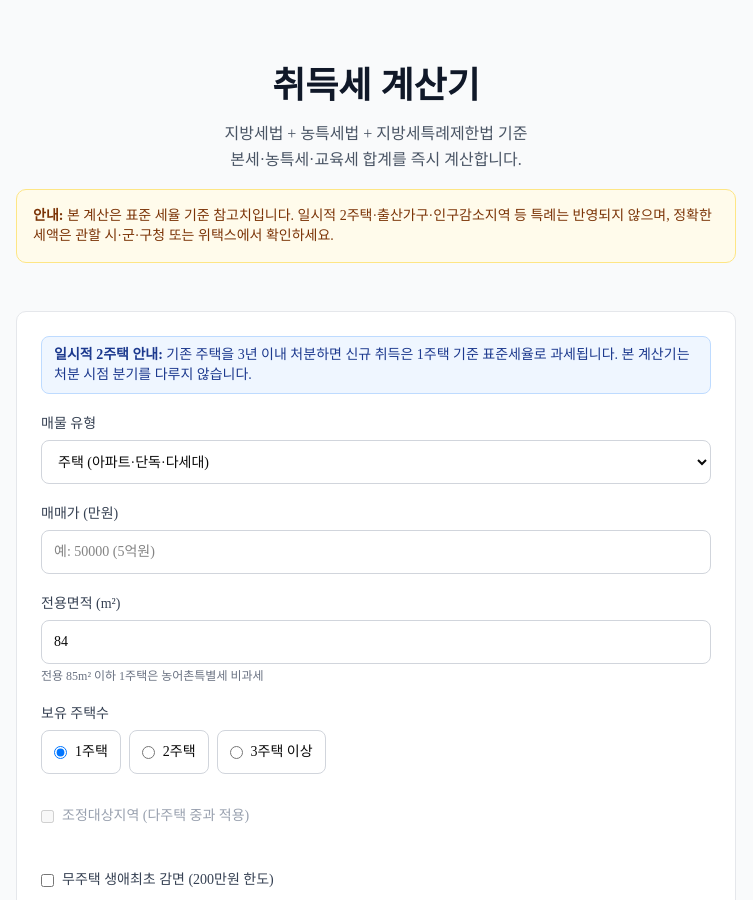
Test: /tools/acquisition-tax 페이지 › 5억 1주택 84m² 입력 → 합계 550만원 + 면책 안내 노출
Type "50000" into the number field labelled "매매가 (만원)". click: (376, 552)
box: x1=41 y1=530 x2=711 y2=574
(page scrolled)
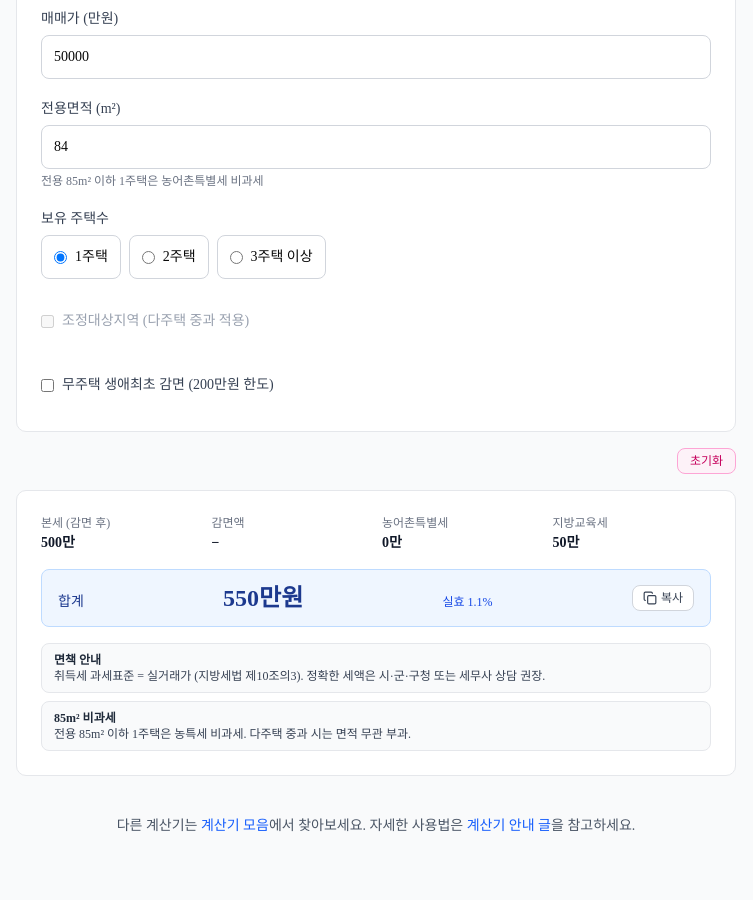
expect the text "합계" is shown: met, box x1=58 y1=592 x2=84 y2=612
expect the text "550만원" is shown: met, box x1=223 y1=582 x2=303 y2=614
expect the text "면책 안내" is shown: met, box x1=54 y1=653 x2=101 y2=667
